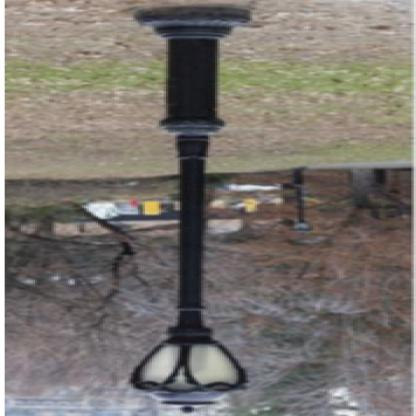Streetlights 1: (115, 4, 284, 415)
